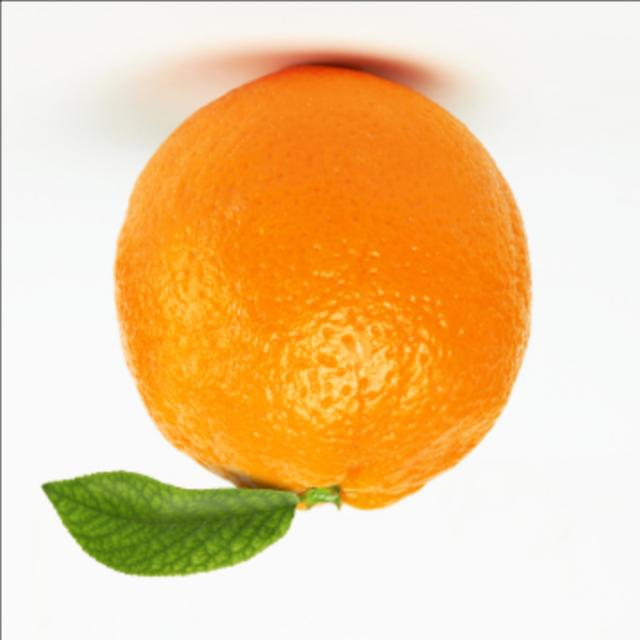Orange: (107, 56, 545, 526)
